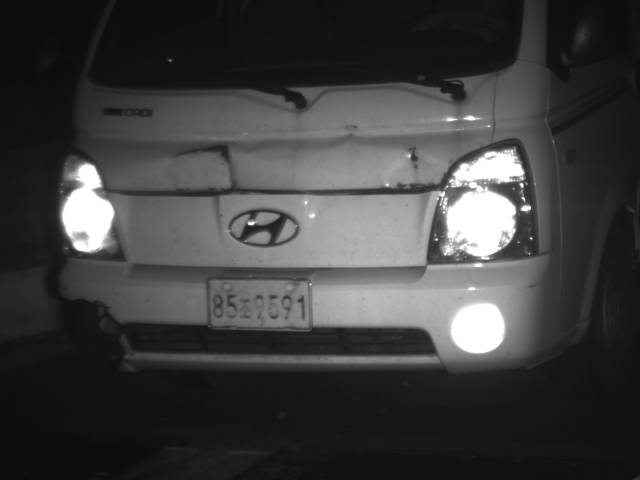car: (53, 1, 640, 392)
plate: (205, 275, 315, 333)
